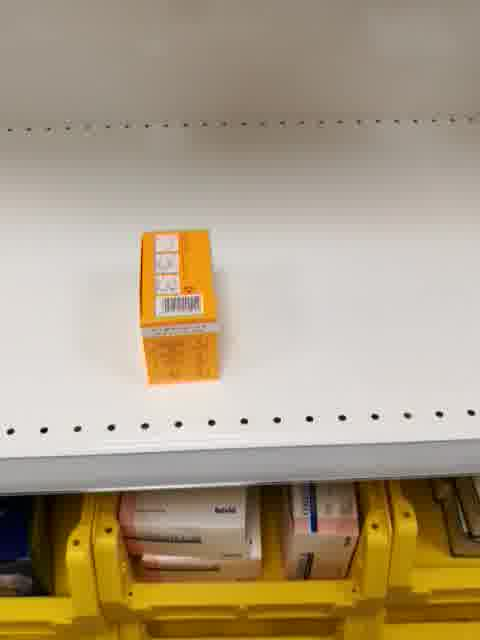jasminetea: (136, 228, 222, 387)
